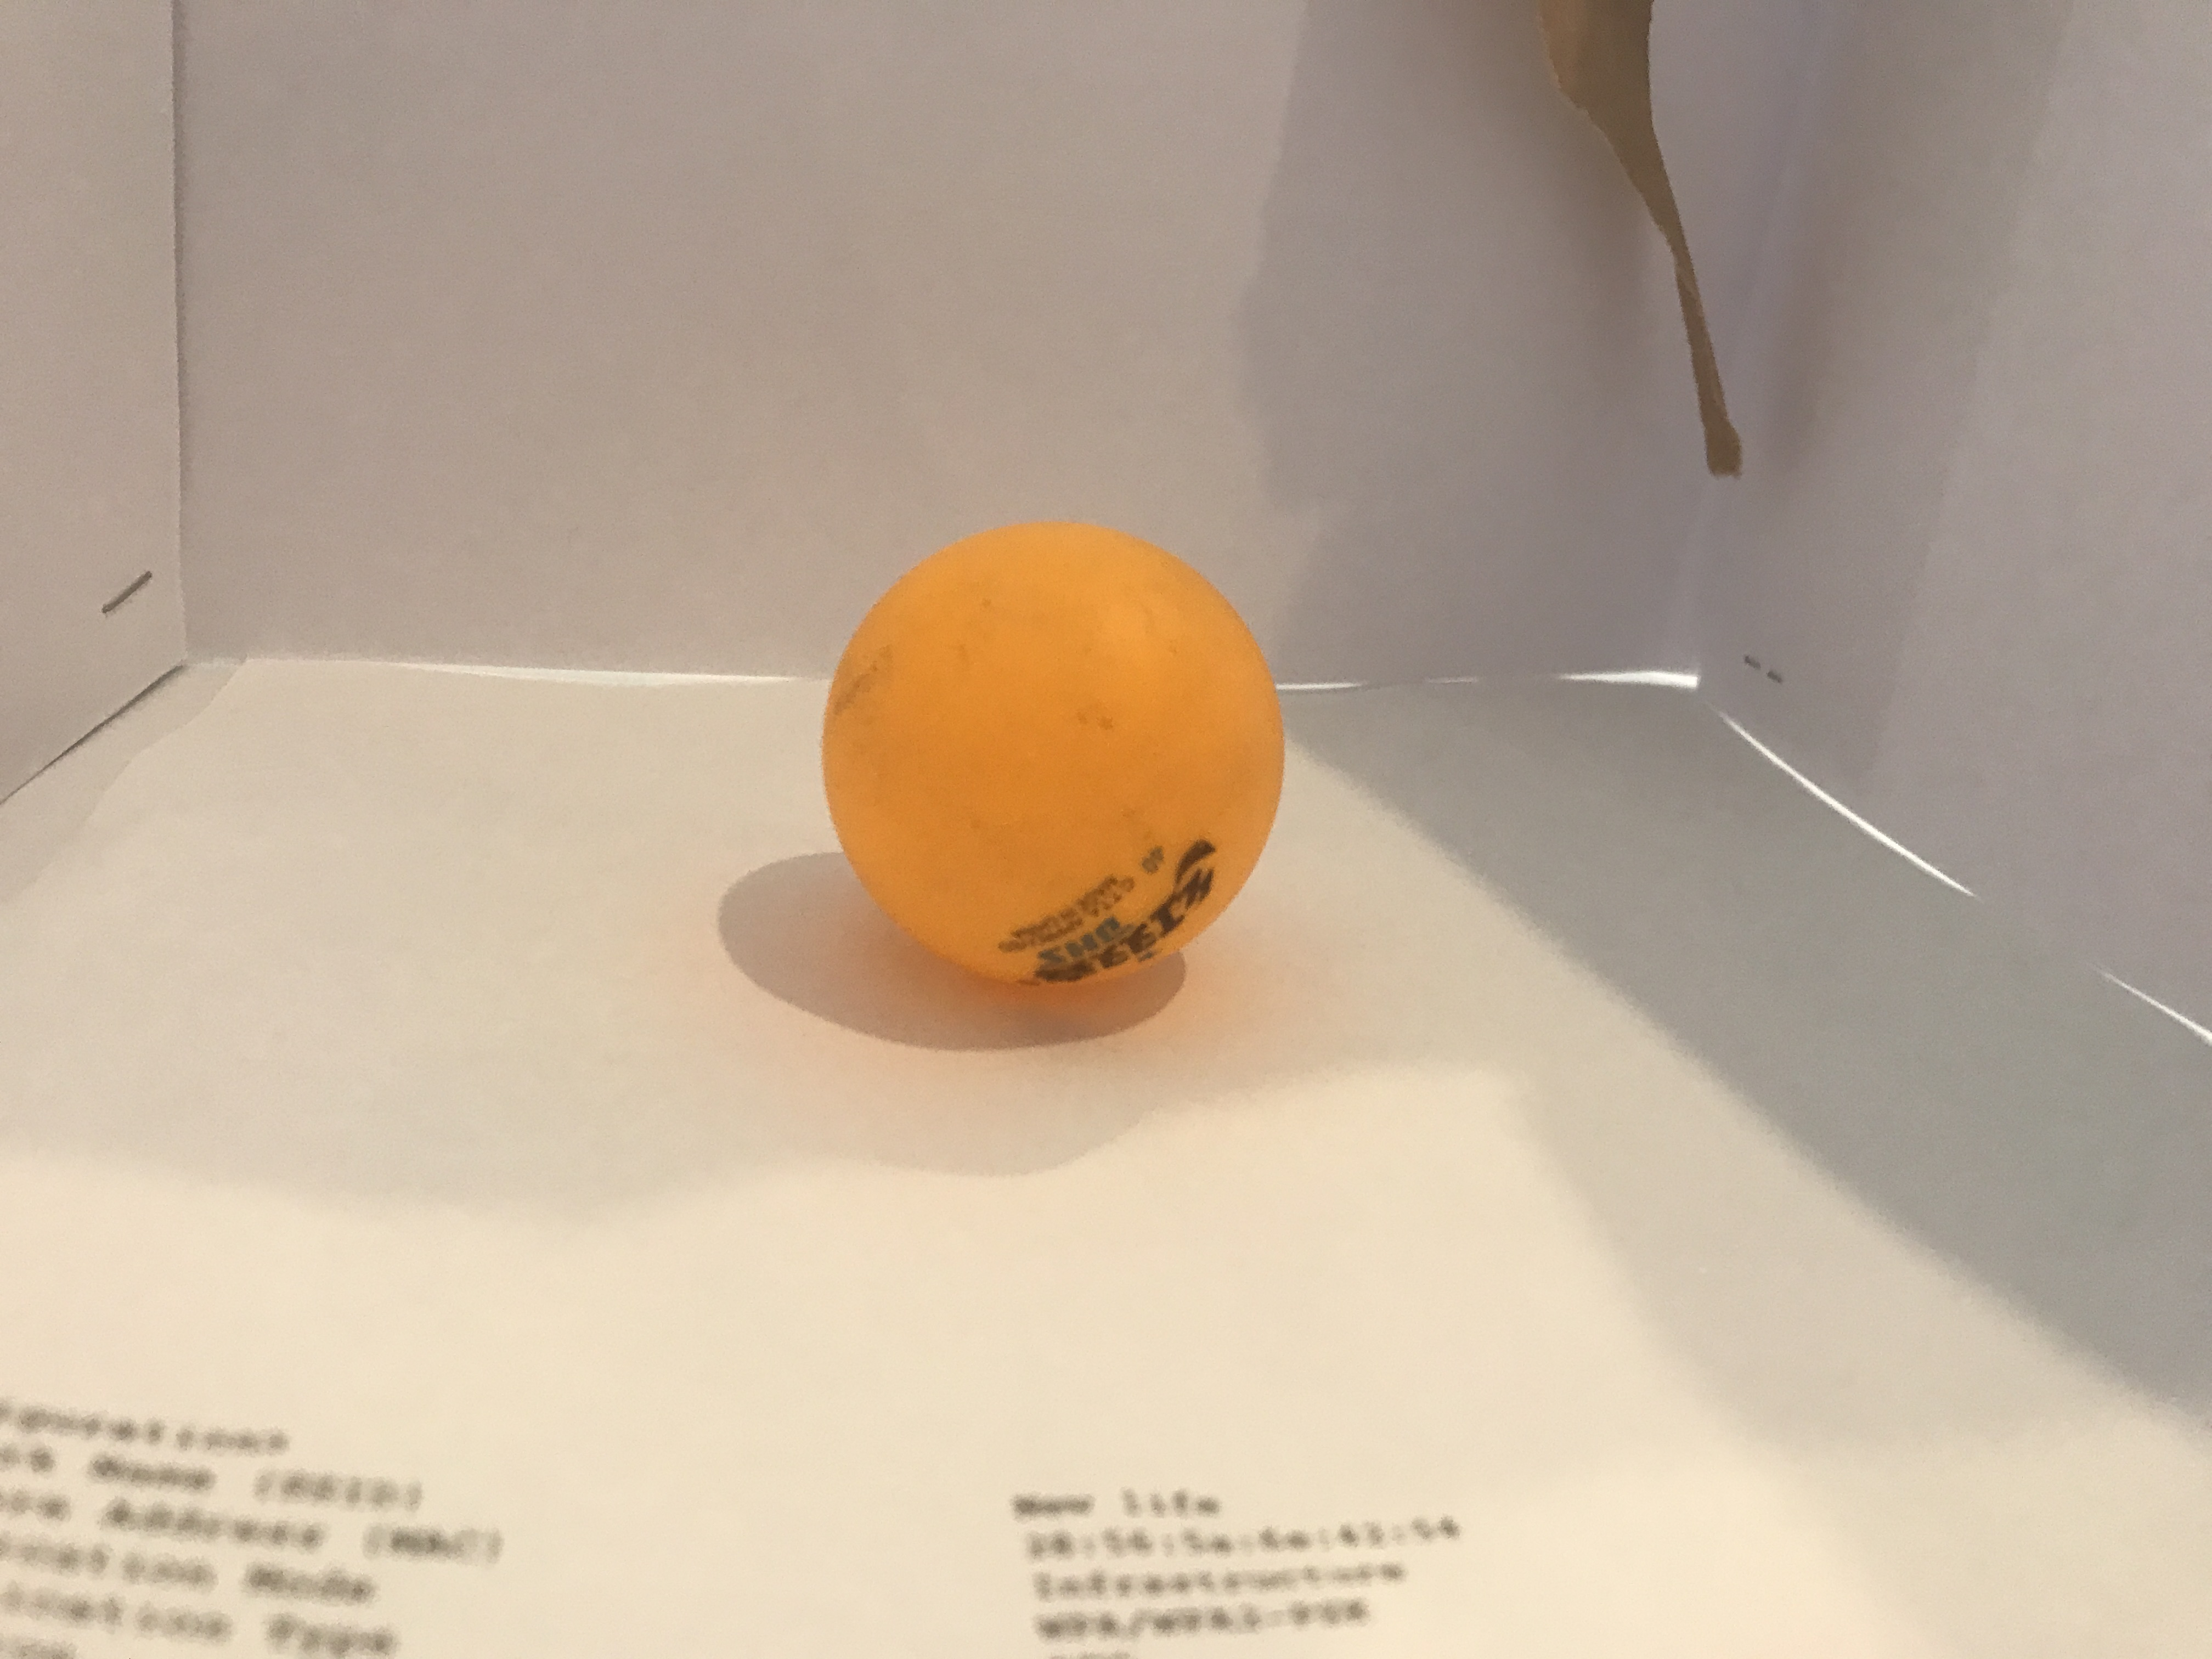pp: (812, 532, 1285, 993)
